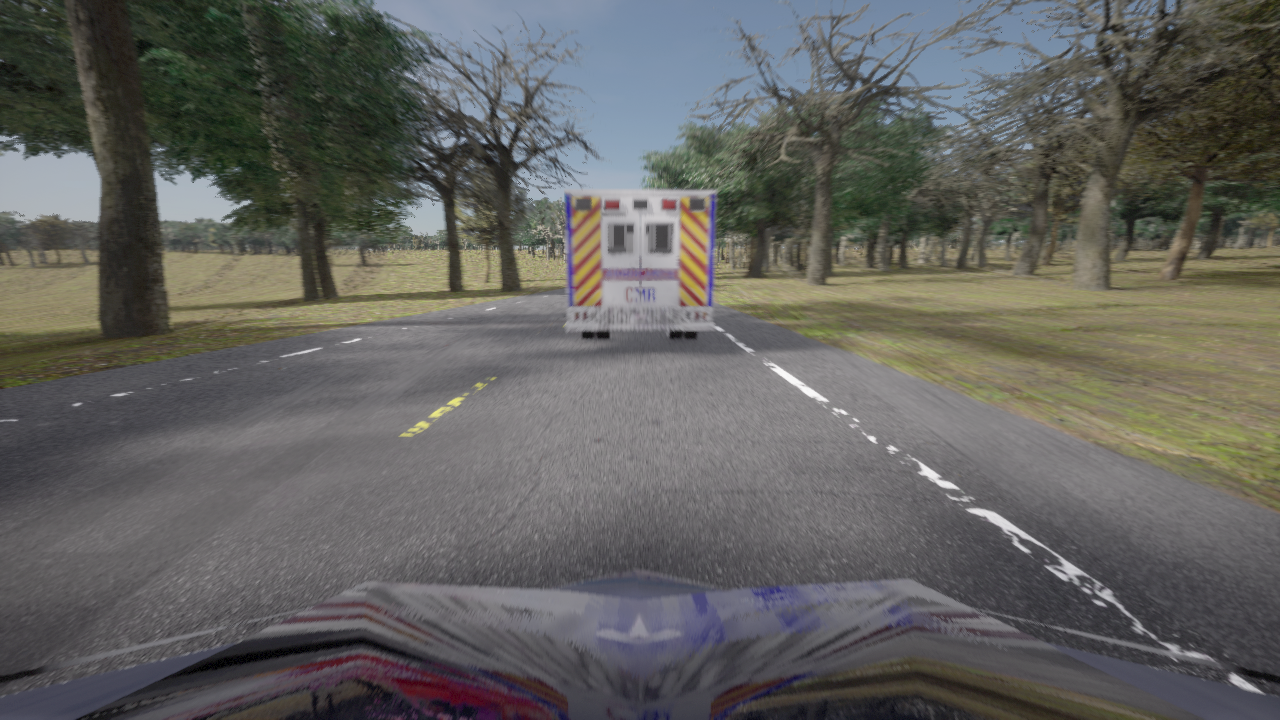cyclist: (0, 569, 1279, 719), (564, 190, 715, 339)
